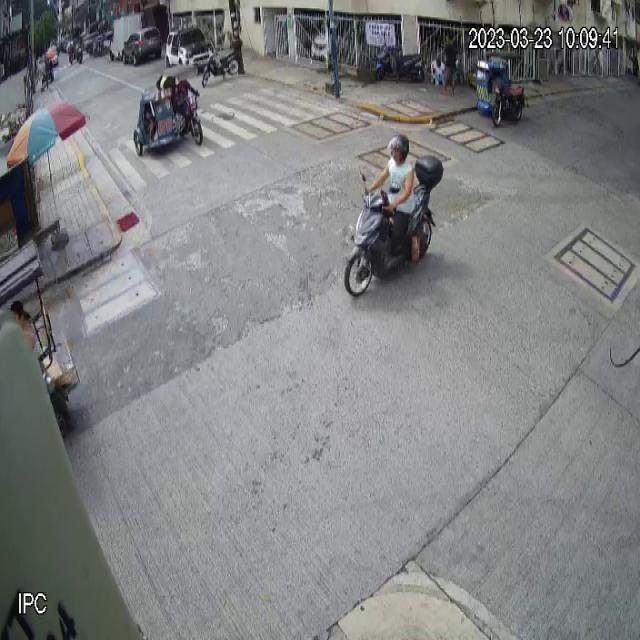Motorcycle: (343, 154, 444, 298)
Tricycle: (133, 65, 203, 158), (476, 51, 528, 128)
